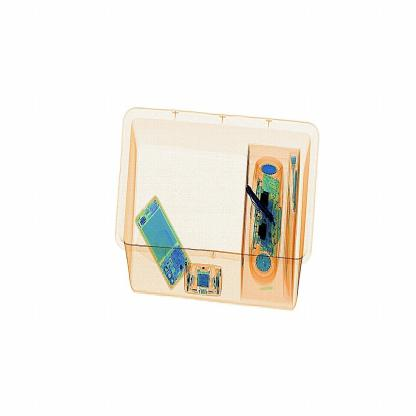knife: (244, 186, 277, 225)
